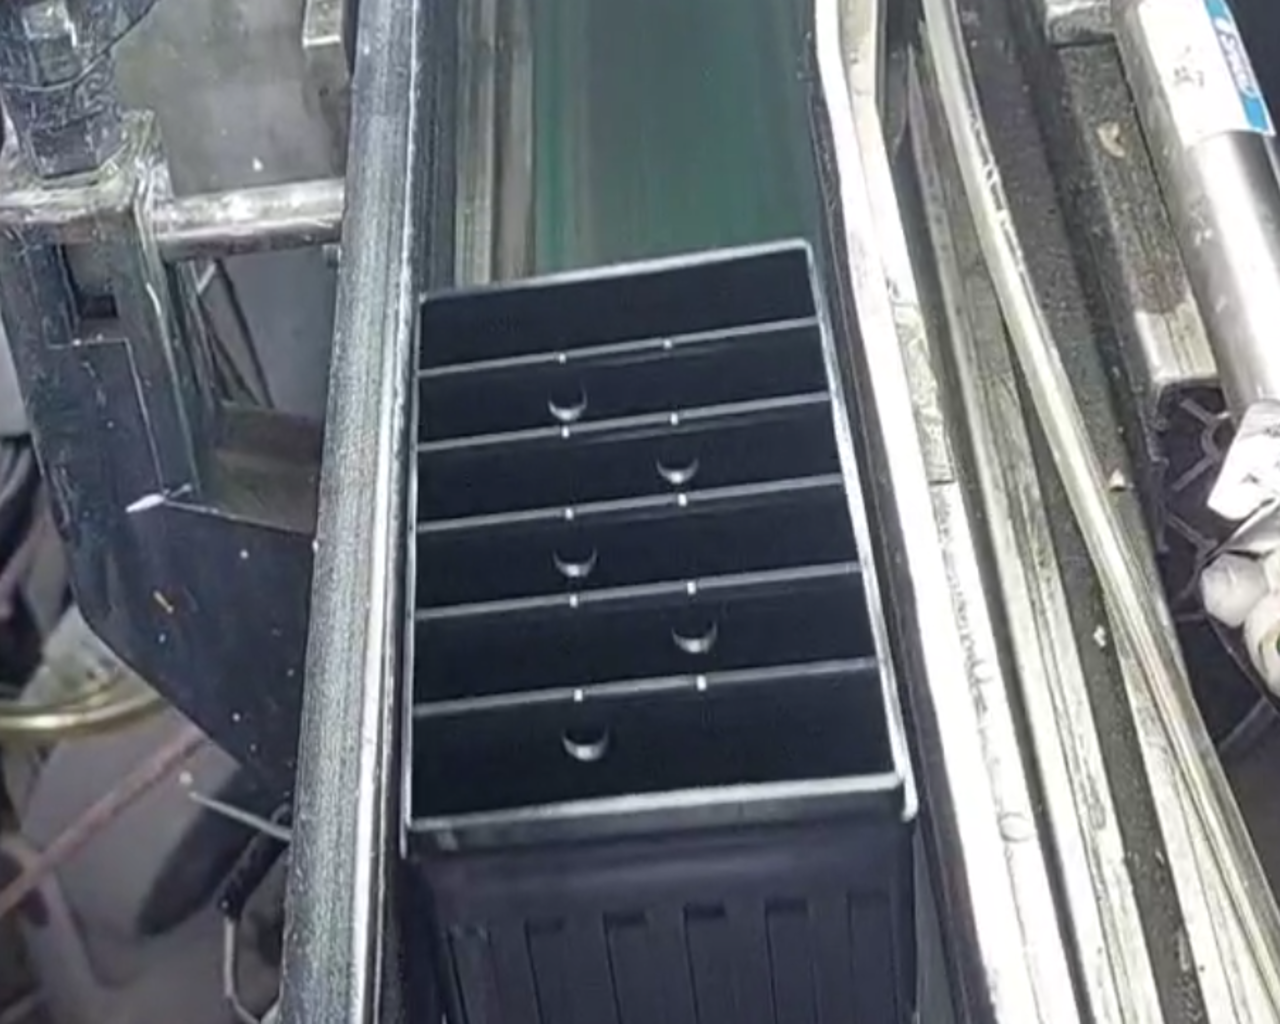box: (381, 224, 933, 880)
round: (648, 591, 737, 661), (531, 521, 621, 589), (546, 707, 622, 771), (639, 428, 712, 493), (536, 369, 596, 432)
